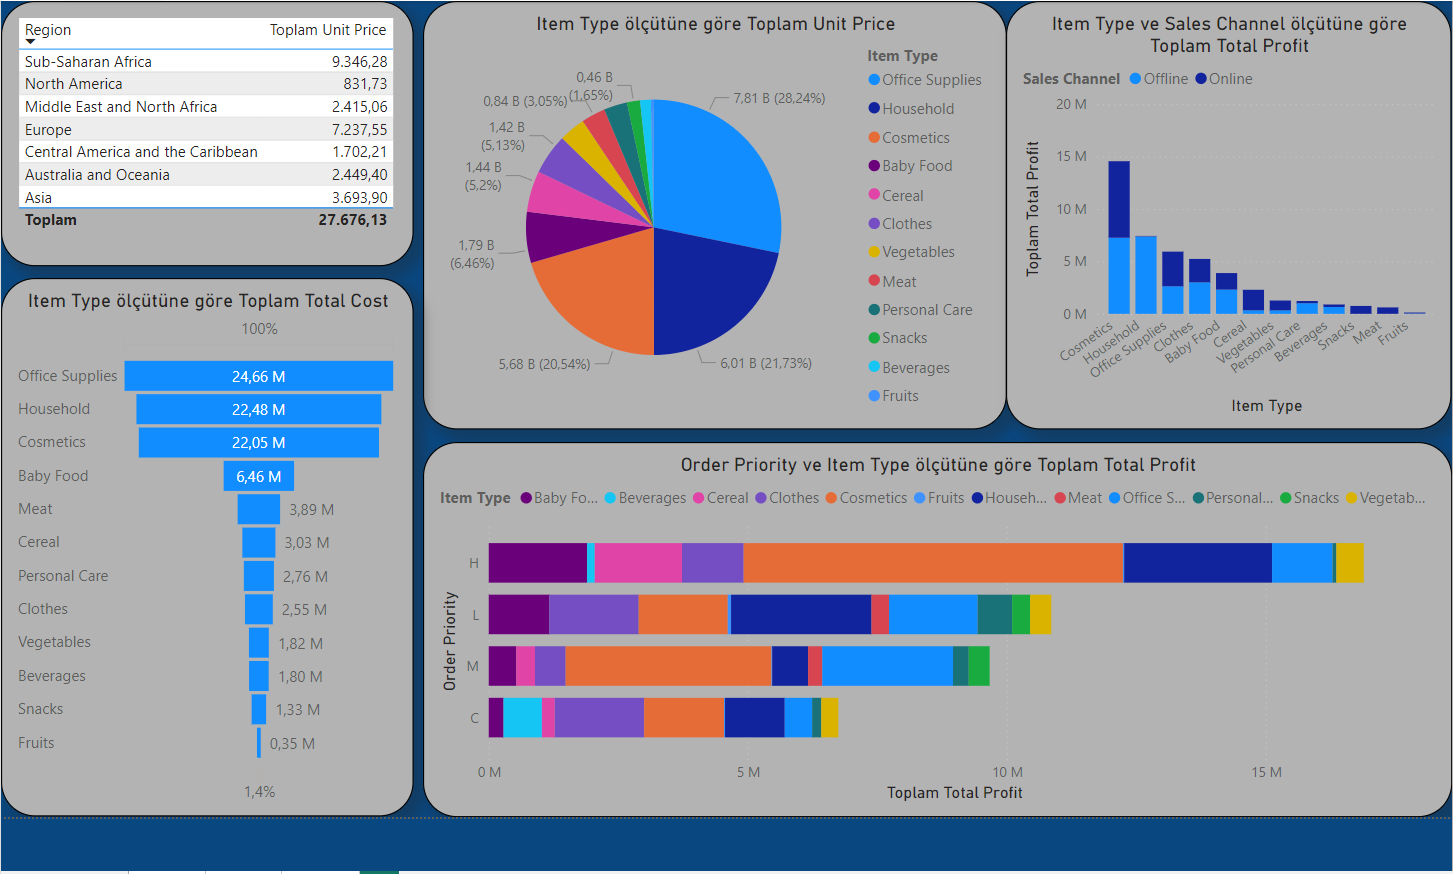

The dashboard page shown, as its layout file describes it:
{"tool":"powerbi","page":{"name":"Page 3","canvas":[1280,720],"ordinal":2},"visuals":[{"type":"tableEx","fields":{"Values":["Amazon Sales data.Region","Sum(Amazon Sales data.Unit Price)"]},"box":[0,0,364,233.6],"z":0},{"type":"pieChart","fields":{"Category":["Amazon Sales data.Item Type"],"Y":["Sum(Amazon Sales data.Unit Price)"]},"box":[371.9,0,515,378.3],"z":1000},{"type":"lineStackedColumnComboChart","fields":{"Category":["Amazon Sales data.Item Type"],"Y":["Sum(Amazon Sales data.Total Profit)"],"Series":["Amazon Sales data.Sales Channel"]},"box":[886.9,0,392.6,378.3],"z":2000},{"type":"funnel","fields":{"Category":["Amazon Sales data.Item Type"],"Y":["Sum(Amazon Sales data.Total Cost)"]},"box":[0,244.8,364,475.2],"z":3000},{"type":"barChart","fields":{"Category":["Amazon Sales data.Order Priority"],"Y":["Sum(Amazon Sales data.Total Profit)"],"Series":["Amazon Sales data.Item Type"]},"box":[371.9,389.4,907.5,330.6],"z":4000}]}

Visuals, with their boxes on the page's 1280x720 design canvas (x1, y1, x2, y2). These are canvas units, not pixel positions in the 1453x874 screenshot, which may show the page scaled, cropped or inside an application window:
tableEx - Amazon Sales data.Region x Sum(Amazon Sales data.Unit Price): <box>0,0,364,234</box>
pieChart - Amazon Sales data.Item Type x Sum(Amazon Sales data.Unit Price): <box>372,0,887,378</box>
lineStackedColumnComboChart - Amazon Sales data.Item Type x Sum(Amazon Sales data.Total Profit): <box>887,0,1280,378</box>
funnel - Amazon Sales data.Item Type x Sum(Amazon Sales data.Total Cost): <box>0,245,364,720</box>
barChart - Amazon Sales data.Order Priority x Sum(Amazon Sales data.Total Profit): <box>372,389,1279,720</box>
